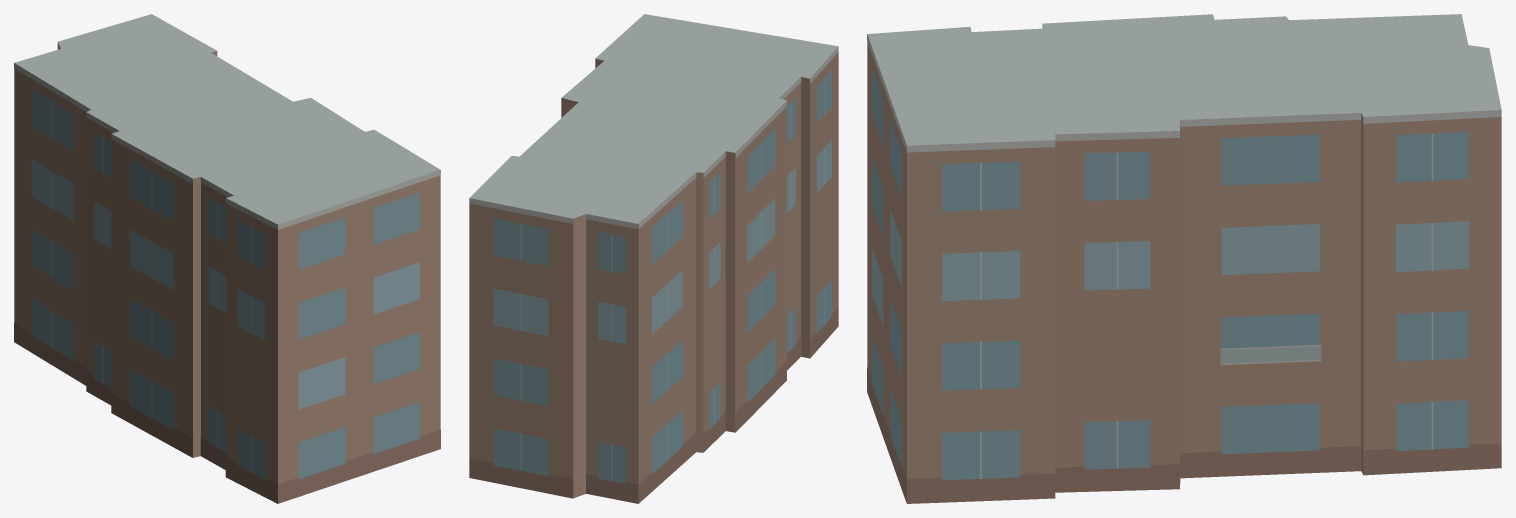
The model's file is survey-upis-32563761.glb.
3 renders of one model, left to right at view 1: azimuth 30°, elevation 25°; view 2: azimuth 150°, elevation 25°; view 3: azimuth 270°, elevation 25°, orthographic. The views are drawn at different scales.
Parts seen in each view (by area): view 1: survey-upis-32563761.tmp; view 2: survey-upis-32563761.tmp; view 3: survey-upis-32563761.tmp.
Part boxes in pixels (bbox=[...]): survey-upis-32563761.tmp: bbox=[14, 14, 440, 503]; survey-upis-32563761.tmp: bbox=[469, 14, 838, 503]; survey-upis-32563761.tmp: bbox=[867, 14, 1501, 503].
Bounding box in the file's own units: 10.02 × 12.7 × 20.4.
